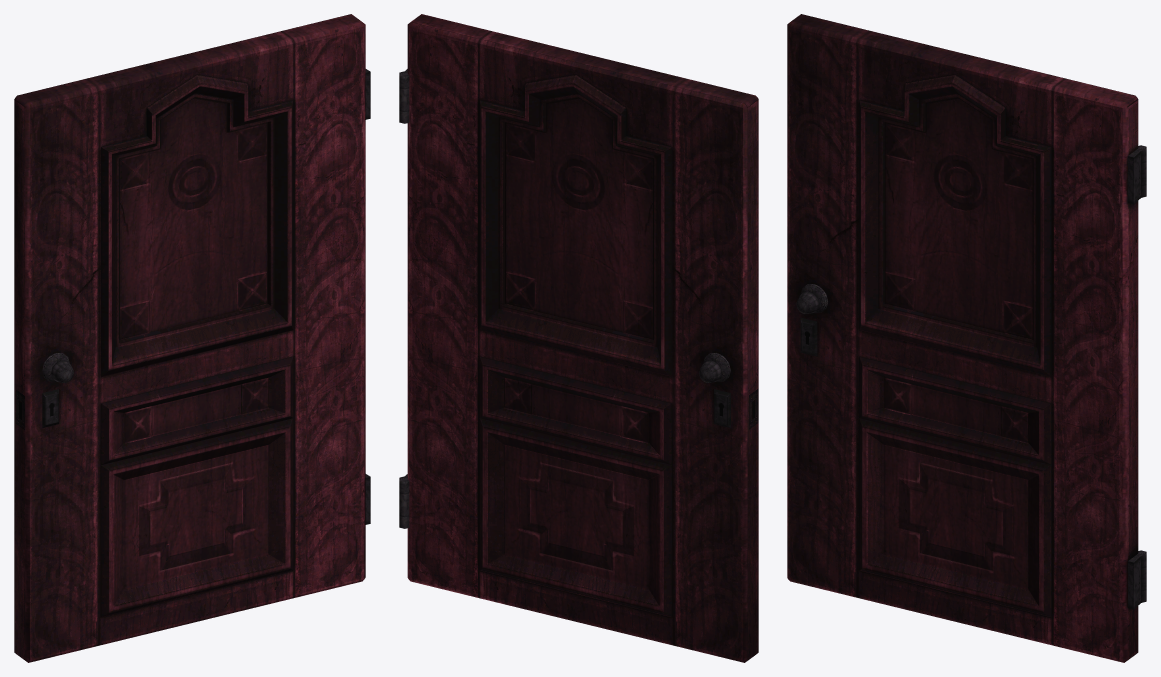
The model's file is 42_FancyDoor.dae.
The picture shows the model from 3 angles, left to right: view 1: azimuth 30°, elevation 25°; view 2: azimuth 150°, elevation 25°; view 3: azimuth 330°, elevation 25°; orthographic projection.
Parts seen in each view (by area): view 1: mansion_door_mesh, Object001; view 2: mansion_door_mesh, Object001; view 3: mansion_door_mesh, Object001.
Part boxes in pixels (bbox=[...]): mansion_door_mesh: bbox=[14, 14, 365, 662]; Object001: bbox=[365, 69, 370, 524]; mansion_door_mesh: bbox=[407, 14, 758, 662]; Object001: bbox=[399, 69, 409, 528]; mansion_door_mesh: bbox=[787, 14, 1138, 662]; Object001: bbox=[1128, 145, 1146, 609].
Size of the model in its own units: 2.66 by 0.4912 by 4.09.
1 material, 1 textured.
